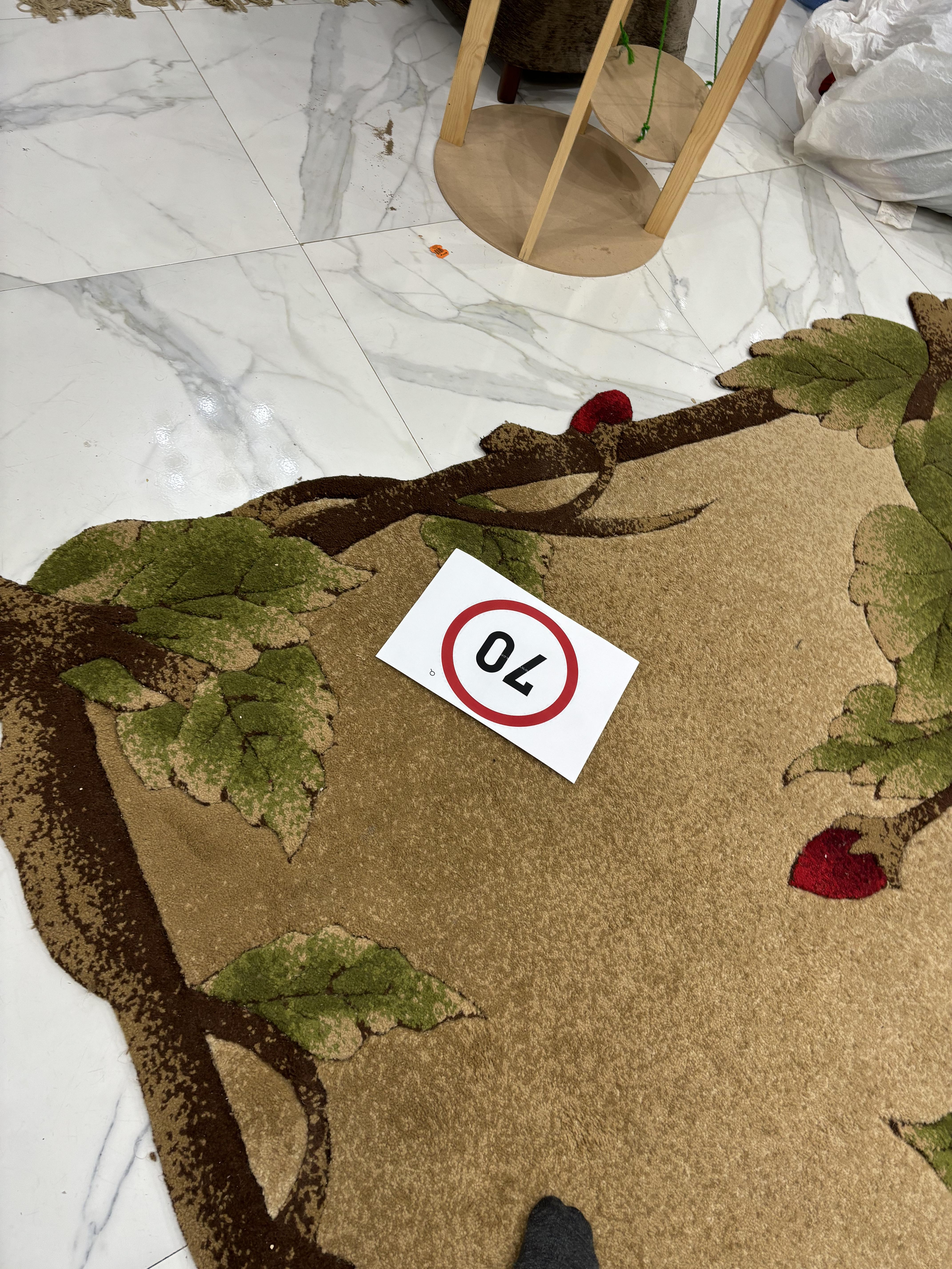70-Speed: (438, 596, 586, 729)
